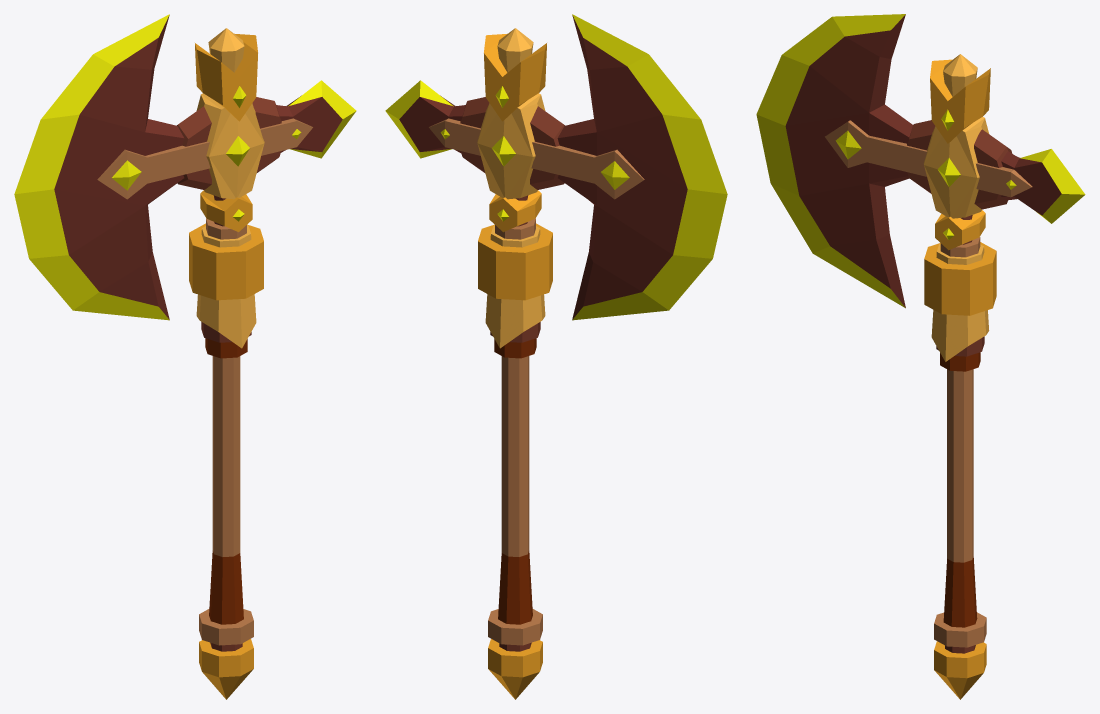
Rendered from Axe 03.fbx.
The picture shows the model from 3 angles, left to right: view 1: azimuth 30°, elevation 25°; view 2: azimuth 150°, elevation 25°; view 3: azimuth 330°, elevation 25°; orthographic projection. The views are drawn at different scales.
Visible parts, largest first — view 1: Axe_03; view 2: Axe_03; view 3: Axe_03.
Part boxes in pixels (bbox=[...]): Axe_03: bbox=[14, 14, 356, 699]; Axe_03: bbox=[385, 14, 727, 699]; Axe_03: bbox=[756, 14, 1085, 699].
Bounding box in the file's own units: 66.94 × 13.2 × 131.
Materials: 1 (1 with a texture image).
